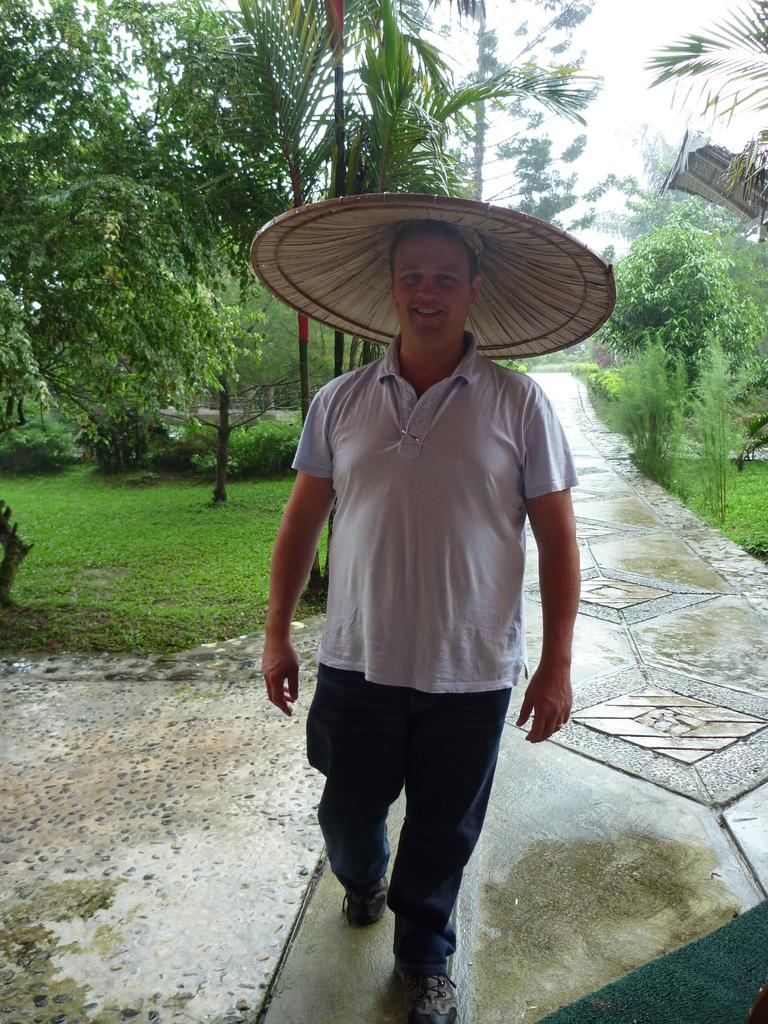Hat: (250, 190, 620, 348)
